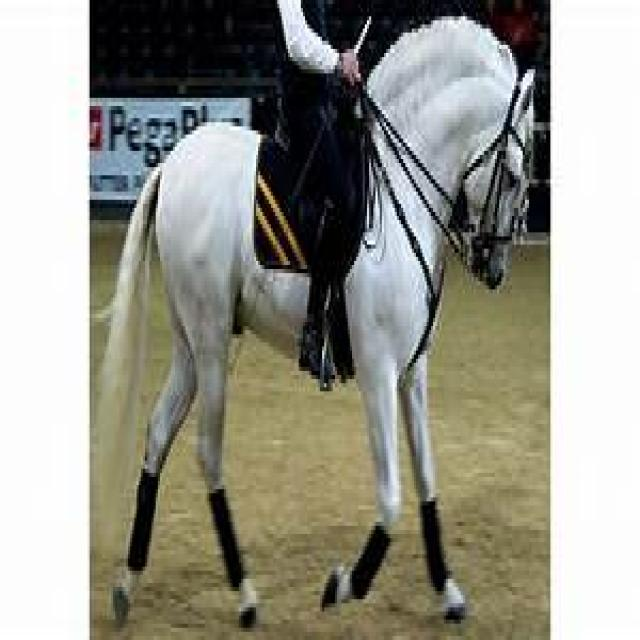horse: (111, 17, 538, 624)
